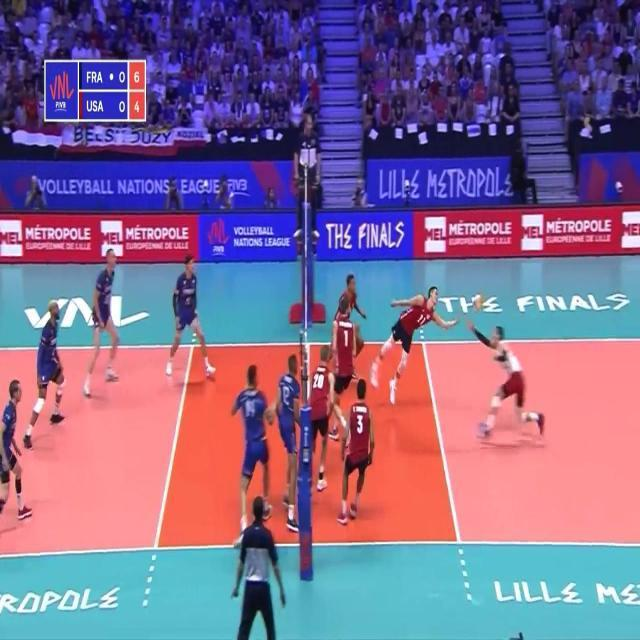volleyball: (472, 294, 482, 312)
